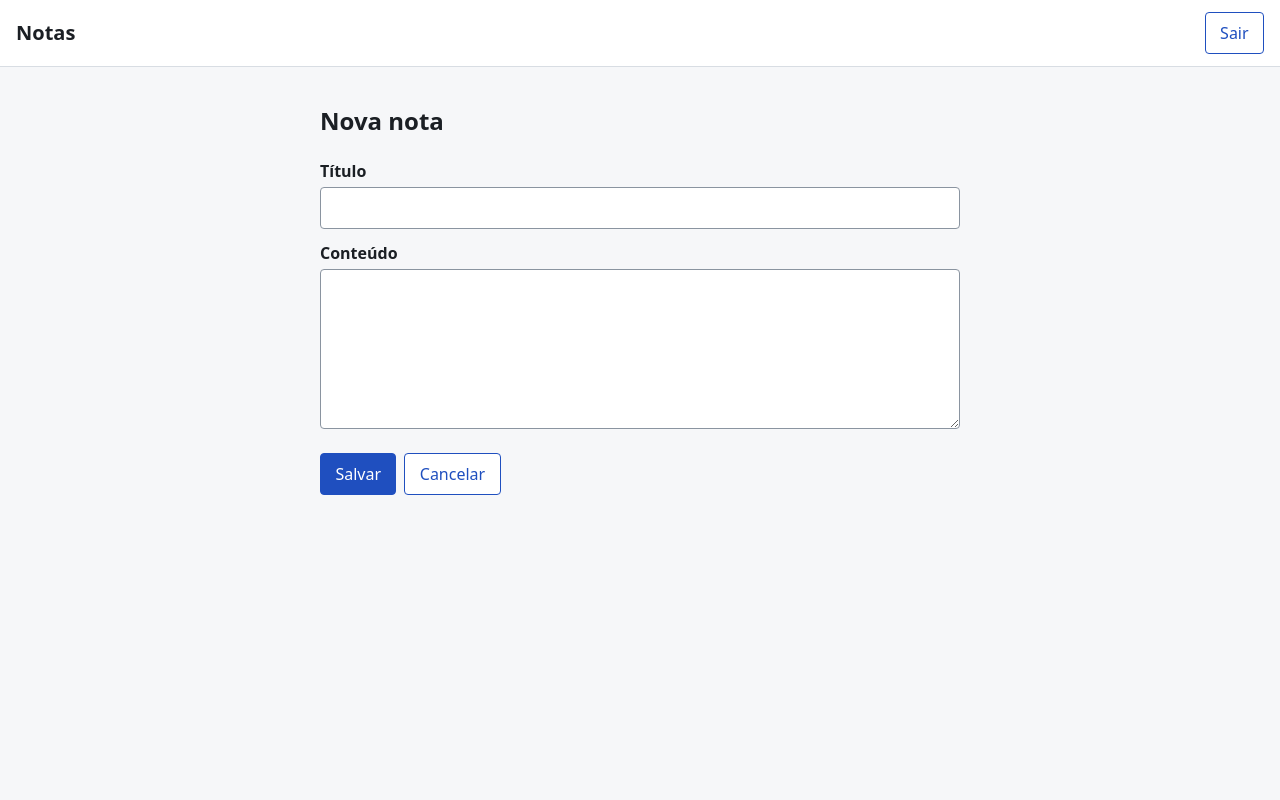
Test: formulário de nota › em falha não confirmada preserva o rascunho e orienta a conferir a lista
Type "Rascunho" into the field labelled "Título" at (640, 208), box [320,187,960,229]
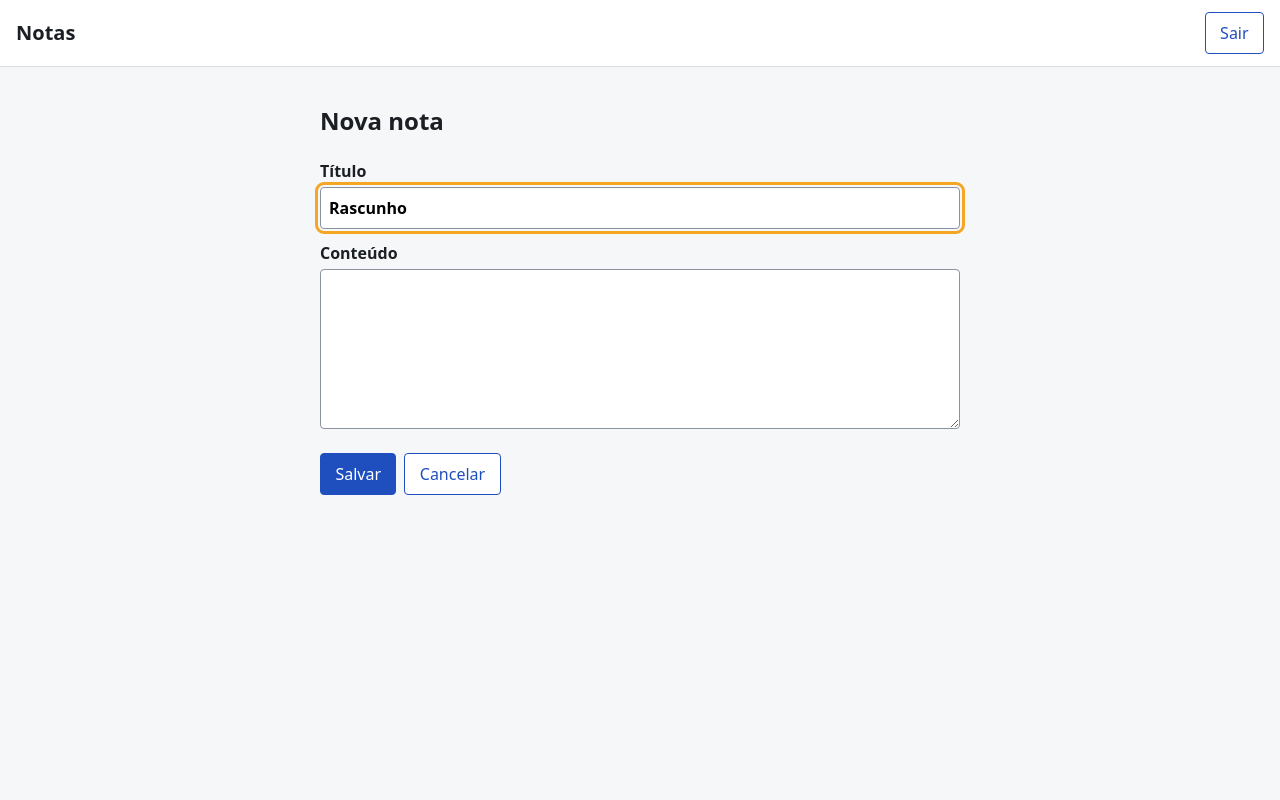
Type "Texto" into the text box labelled "Conteúdo" at (640, 349), box [320,269,960,429]
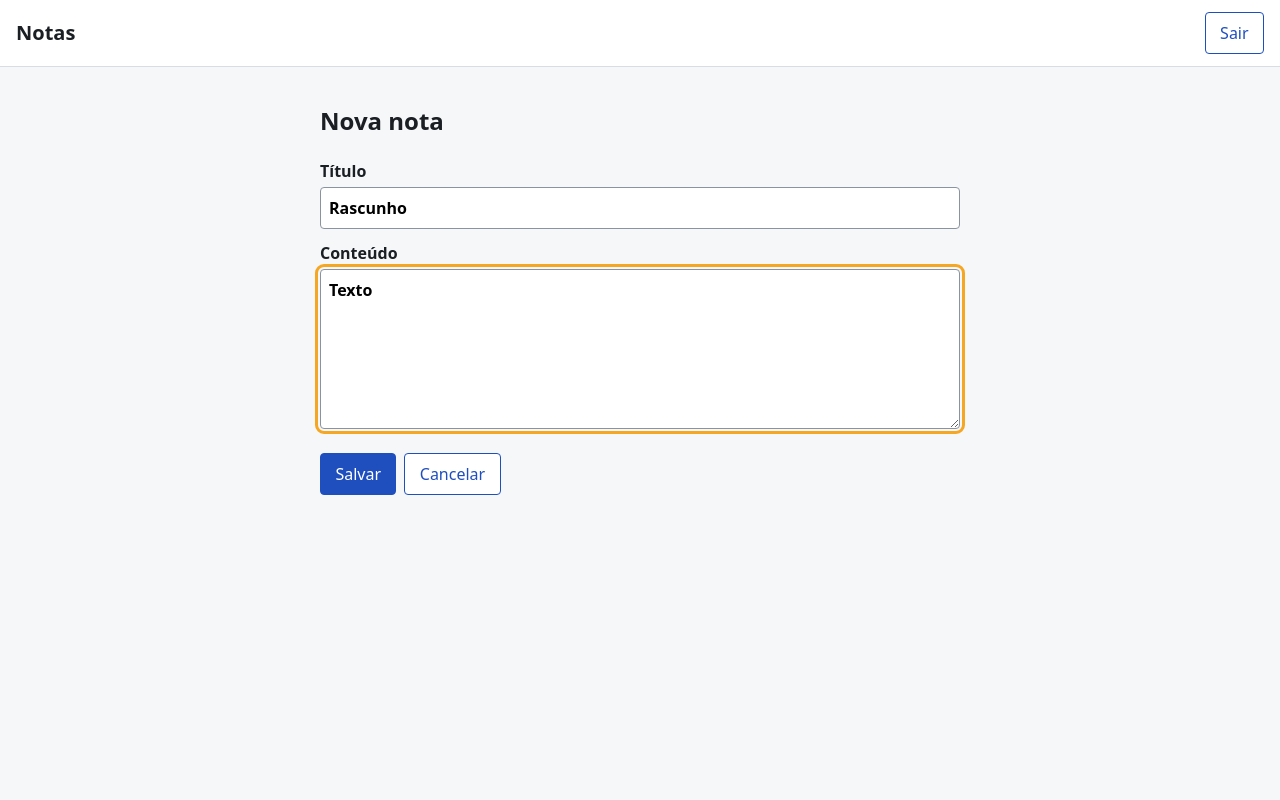
Click the button "Salvar" at (358, 474), box [320,453,396,495]
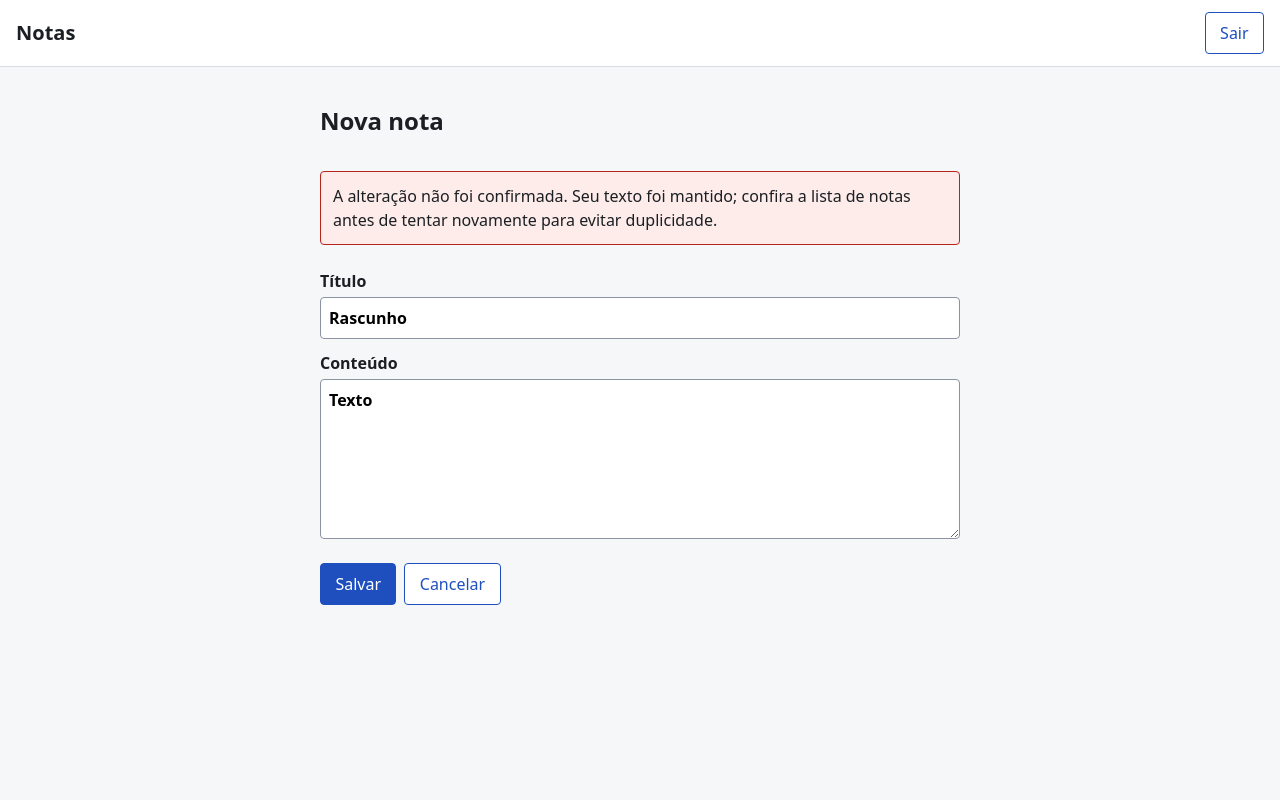
expect the message shows "não foi confirmada": met, box [333,185,911,231]
expect the message shows "lista": met, box [333,185,911,231]
